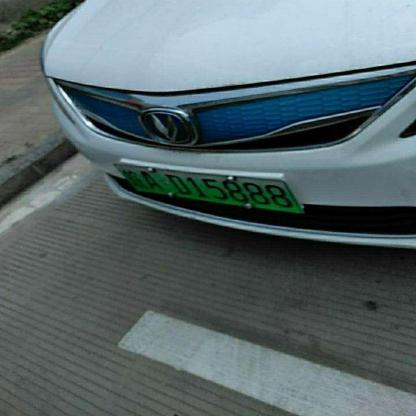lp: (116, 164, 299, 214)
